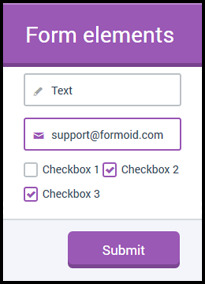_form_: (1, 1, 205, 285)
button: (66, 230, 182, 269)
checkbox: (101, 161, 118, 179), (22, 186, 40, 202), (23, 162, 39, 178)
field: (22, 72, 184, 109), (22, 117, 183, 152)
